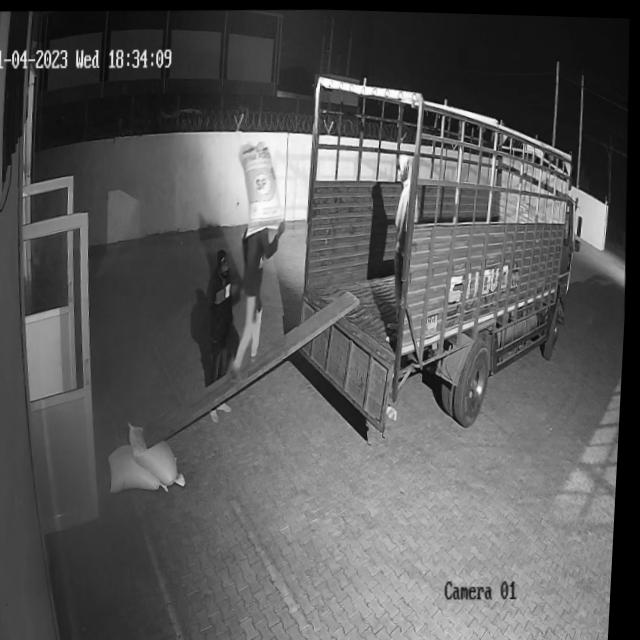sack: (236, 137, 288, 235), (128, 418, 192, 484), (111, 442, 175, 493)
